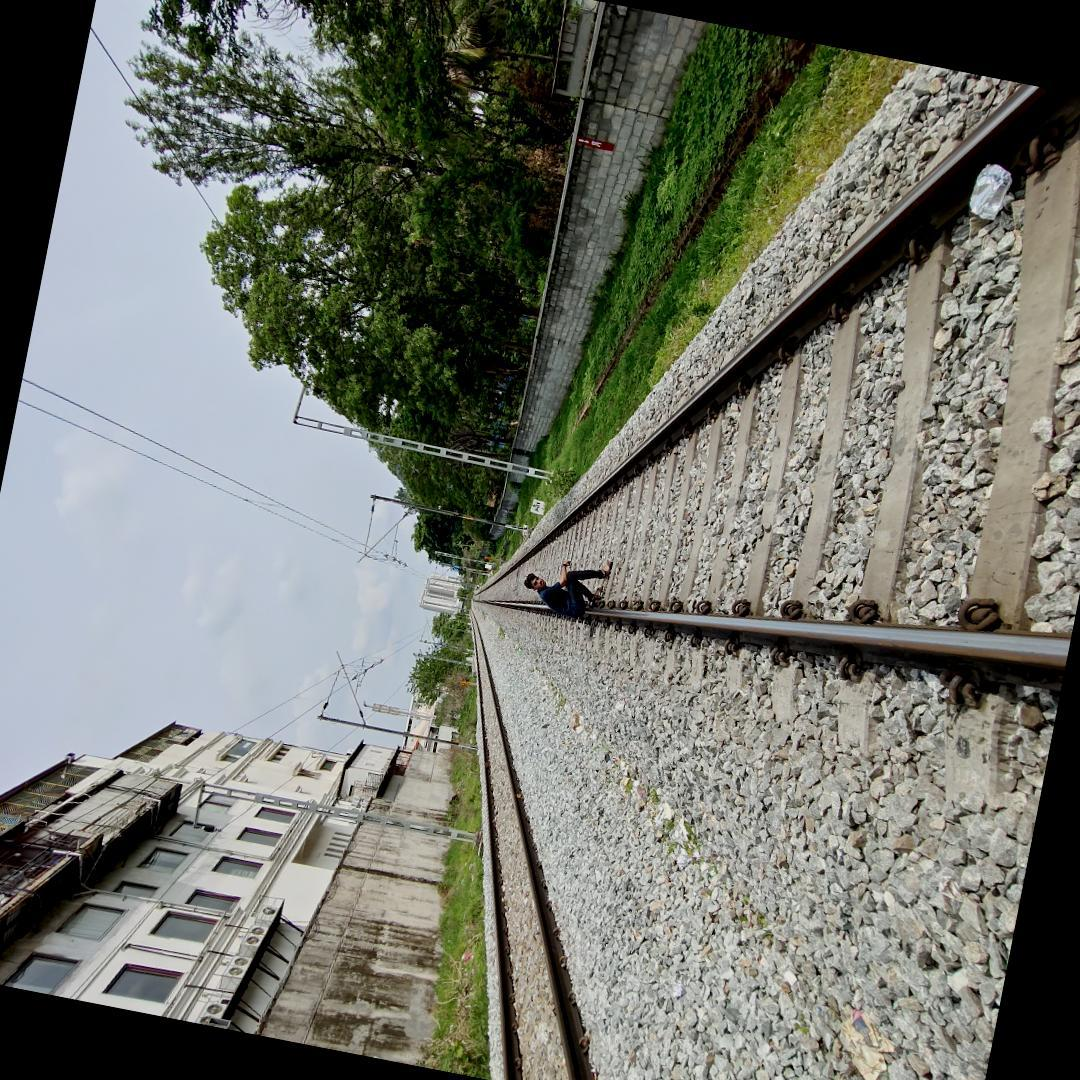sitting: (510, 554, 621, 639)
track: (470, 84, 1080, 694)
